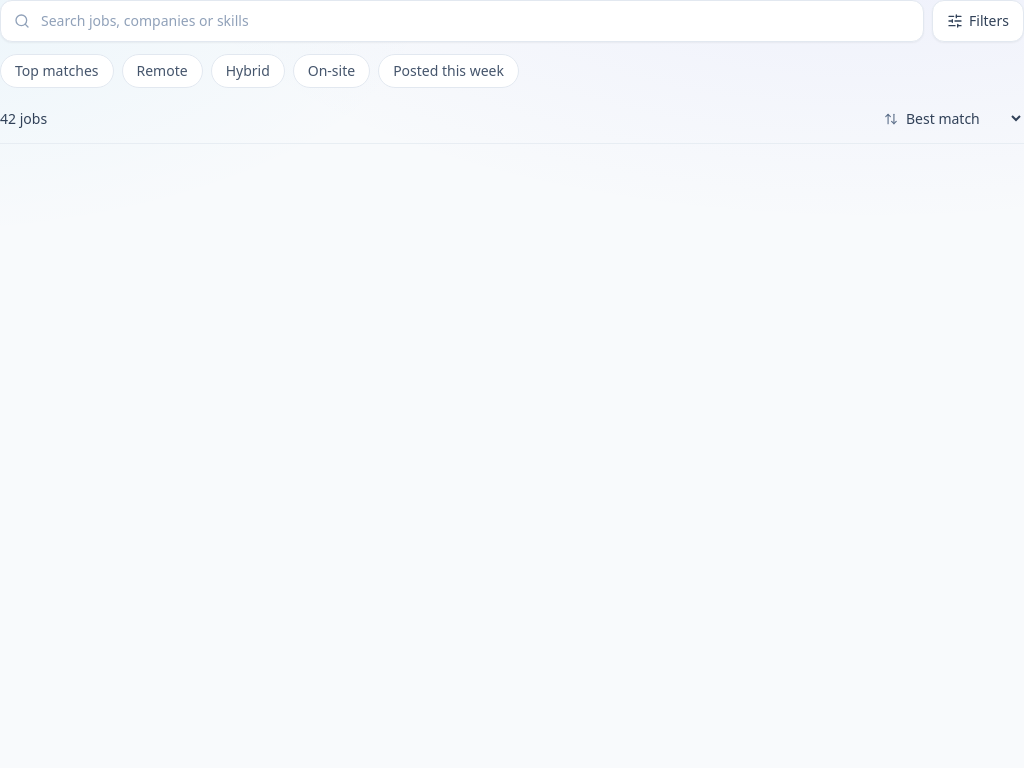
it: JobFilters › blocks impossible ranges before searching
The image size is (1024, 768).
Step 1. Click the button "Filters" → (978, 21), box [932,0,1023,42]
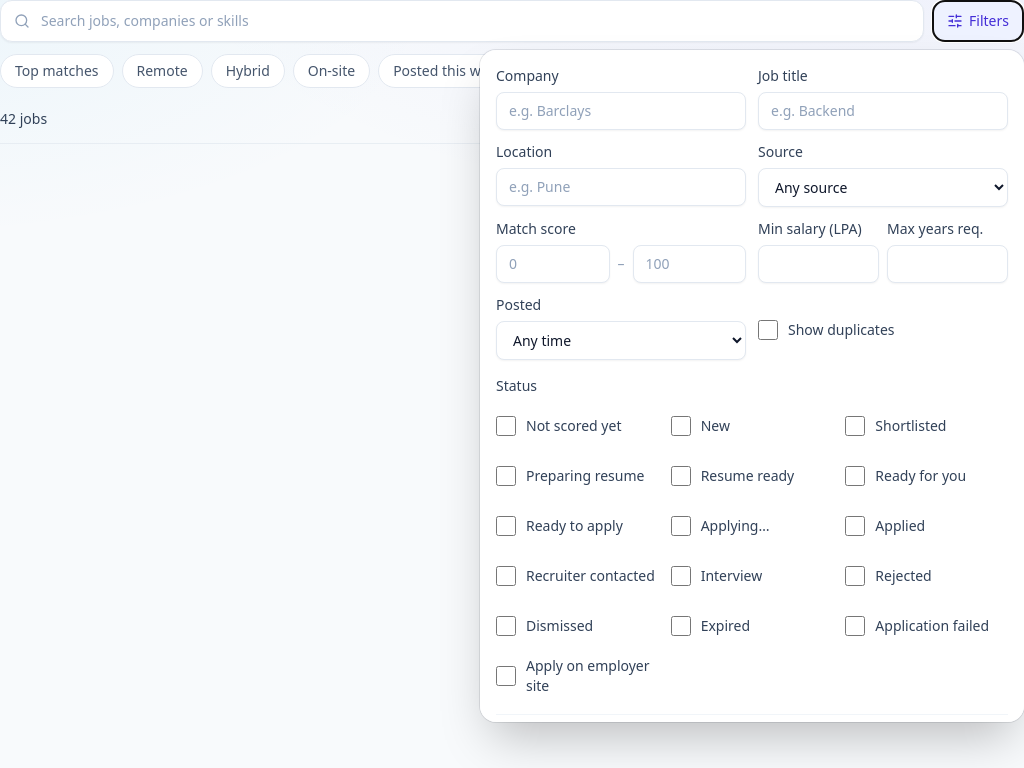
Step 2. Type "90" into the number field named "Minimum score" → (553, 264), box [496,245,610,283]
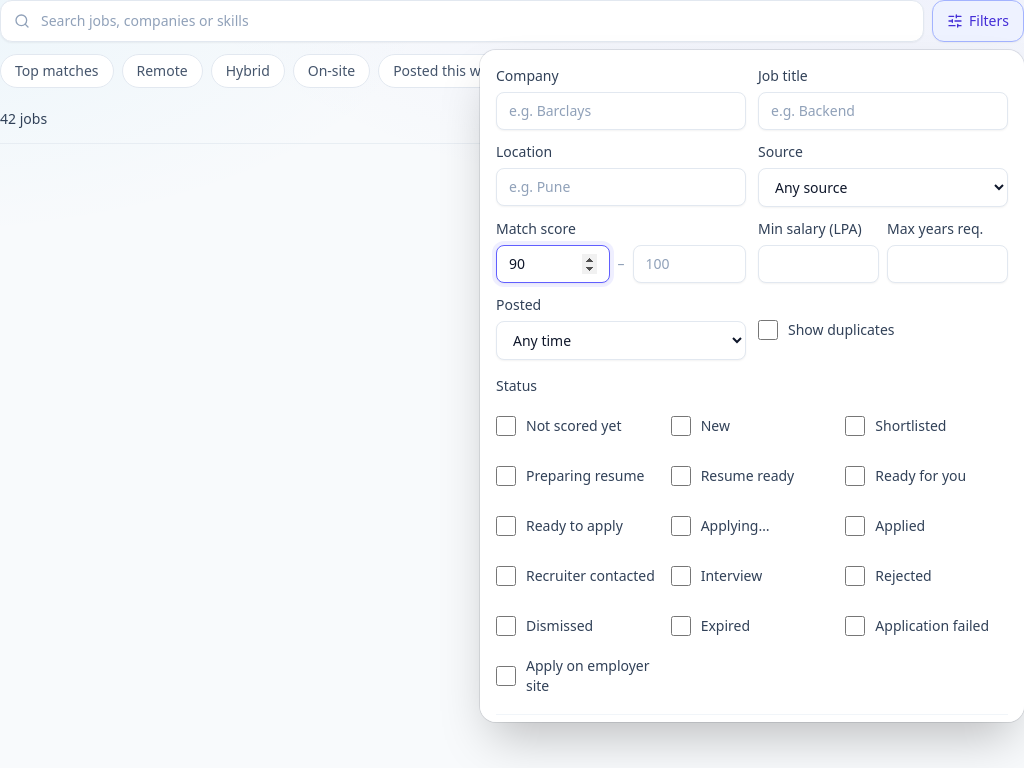
Step 3. Type "50" into the number field named "Maximum score" → (689, 264), box [632,245,746,283]
(page scrolled)
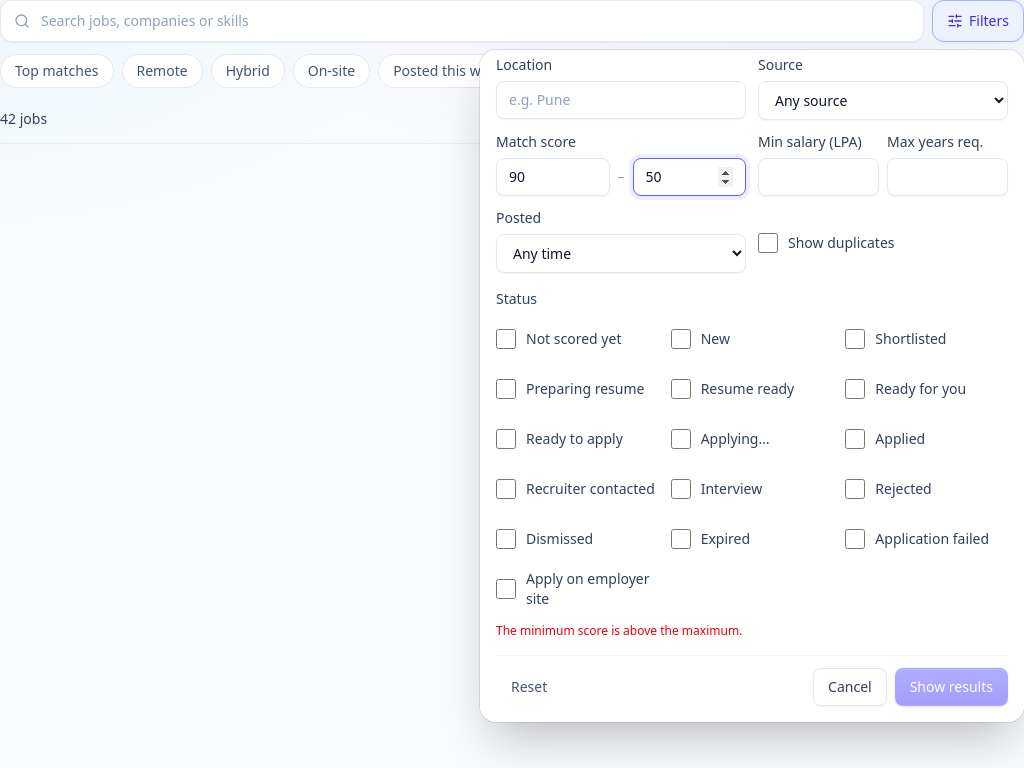
Expected: the message shows "above the maximum", [496,622,742,639]
Expected: the button "Show results" is disabled, [895,668,1008,706]
